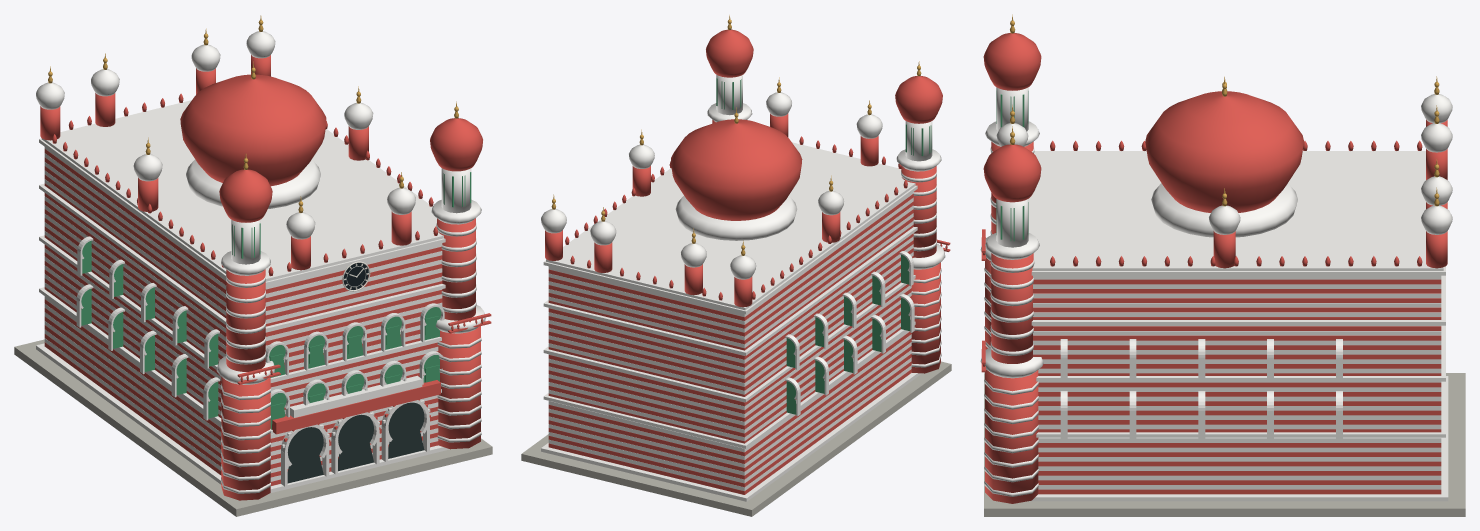
The model's file is jami-ul-alfar.glb.
3 renders of one model, left to right at view 1: azimuth 30°, elevation 25°; view 2: azimuth 150°, elevation 25°; view 3: azimuth 270°, elevation 25°, orthographic. The views are drawn at different scales.
Parts seen in each view (by area): view 1: 05 Roof parapets and Indo-Saracenic merlons / Jami White, 06 Soaring twin front minarets / Jami Red, 07 Central monumental onion dome / Jami Red, 06 Soaring twin front minarets / Jami White, 02 Main sanctuary / Upper terrace hall / Jami White, 01 Foundations and prayer courtyard / Paving, 02 Main sanctuary / Second floor gallery / Jami White, 02 Main sanctuary / Upper terrace hall / Jami Red, 04 Windows and Islamic arched balconies / Jami Green, 02 Main sanctuary / Ground prayer hall / Jami White, 02 Main sanctuary / Second floor gallery / Jami Red, 02 Main sanctuary / First floor mezzanine / Jami White (+13 smaller); view 2: 05 Roof parapets and Indo-Saracenic merlons / Jami White, 02 Main sanctuary / Ground prayer hall / Jami White, 07 Central monumental onion dome / Jami Red, 02 Main sanctuary / Ground prayer hall / Jami Red, 02 Main sanctuary / Second floor gallery / Jami White, 02 Main sanctuary / Upper terrace hall / Jami White, 02 Main sanctuary / First floor mezzanine / Jami White, 02 Main sanctuary / Second floor gallery / Jami Red, 02 Main sanctuary / First floor mezzanine / Jami Red, 06 Soaring twin front minarets / Jami Red, 02 Main sanctuary / Upper terrace hall / Jami Red, 01 Foundations and prayer courtyard / Paving (+9 smaller); view 3: 05 Roof parapets and Indo-Saracenic merlons / Jami White, 02 Main sanctuary / Ground prayer hall / Jami White, 07 Central monumental onion dome / Jami Red, 06 Soaring twin front minarets / Jami Red, 02 Main sanctuary / Second floor gallery / Jami White, 02 Main sanctuary / First floor mezzanine / Jami White, 02 Main sanctuary / Ground prayer hall / Jami Red, 02 Main sanctuary / Upper terrace hall / Jami White, 02 Main sanctuary / First floor mezzanine / Jami Red, 02 Main sanctuary / Second floor gallery / Jami Red, 02 Main sanctuary / Upper terrace hall / Jami Red, 01 Foundations and prayer courtyard / Paving (+8 smaller).
Part boxes in pixels (<box>): 05 Roof parapets and Indo-Saracenic merlons / Jami White: <box>41,100,443,281</box>; 06 Soaring twin front minarets / Jami Red: <box>219,118,483,500</box>; 07 Central monumental onion dome / Jami Red: <box>180,74,326,186</box>; 06 Soaring twin front minarets / Jami White: <box>216,168,485,493</box>; 02 Main sanctuary / Upper terrace hall / Jami White: <box>39,138,445,323</box>; 01 Foundations and prayer courtyard / Paving: <box>14,339,492,516</box>; 02 Main sanctuary / Second floor gallery / Jami White: <box>39,183,445,369</box>; 02 Main sanctuary / Upper terrace hall / Jami Red: <box>44,149,442,326</box>; 04 Windows and Islamic arched balconies / Jami Green: <box>81,240,441,429</box>; 02 Main sanctuary / Ground prayer hall / Jami White: <box>39,287,441,481</box>; 02 Main sanctuary / Second floor gallery / Jami Red: <box>44,193,442,372</box>; 02 Main sanctuary / First floor mezzanine / Jami White: <box>39,235,441,415</box>; 05 Roof parapets and Indo-Saracenic merlons / Jami White: <box>546,142,915,310</box>; 02 Main sanctuary / Ground prayer hall / Jami White: <box>543,321,915,490</box>; 07 Central monumental onion dome / Jami Red: <box>670,119,802,220</box>; 02 Main sanctuary / Ground prayer hall / Jami Red: <box>548,331,911,494</box>; 02 Main sanctuary / Second floor gallery / Jami White: <box>543,227,917,394</box>; 02 Main sanctuary / Upper terrace hall / Jami White: <box>543,185,917,348</box>; 02 Main sanctuary / First floor mezzanine / Jami White: <box>543,275,915,441</box>; 02 Main sanctuary / Second floor gallery / Jami Red: <box>548,233,913,396</box>; 02 Main sanctuary / First floor mezzanine / Jami Red: <box>548,284,911,443</box>; 06 Soaring twin front minarets / Jami Red: <box>706,29,947,373</box>; 02 Main sanctuary / Upper terrace hall / Jami Red: <box>548,194,913,350</box>; 01 Foundations and prayer courtyard / Paving: <box>521,361,951,516</box>; 05 Roof parapets and Indo-Saracenic merlons / Jami White: <box>1028,151,1443,270</box>; 02 Main sanctuary / Ground prayer hall / Jami White: <box>1036,381,1445,489</box>; 07 Central monumental onion dome / Jami Red: <box>1145,91,1304,212</box>; 06 Soaring twin front minarets / Jami Red: <box>982,33,1041,503</box>; 02 Main sanctuary / Second floor gallery / Jami White: <box>1031,275,1445,373</box>; 02 Main sanctuary / First floor mezzanine / Jami White: <box>1036,325,1445,429</box>; 02 Main sanctuary / Ground prayer hall / Jami Red: <box>1038,443,1441,494</box>; 02 Main sanctuary / Upper terrace hall / Jami White: <box>1031,266,1445,316</box>; 02 Main sanctuary / First floor mezzanine / Jami Red: <box>1038,382,1441,432</box>; 02 Main sanctuary / Second floor gallery / Jami Red: <box>1033,326,1441,375</box>; 02 Main sanctuary / Upper terrace hall / Jami Red: <box>1033,279,1441,319</box>; 01 Foundations and prayer courtyard / Paving: <box>984,373,1465,516</box>.
Bounding box in the file's own units: 28.6 × 36.5 × 42.3.
